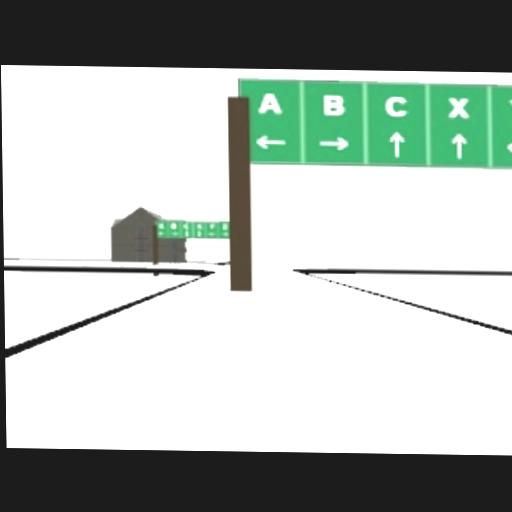A: (257, 89, 284, 115)
B: (322, 92, 347, 116)
C: (384, 94, 411, 118)
Left: (255, 132, 289, 150)
Right: (317, 132, 353, 152)
Straight: (451, 130, 469, 159), (388, 129, 406, 157)
X: (447, 95, 472, 119)
